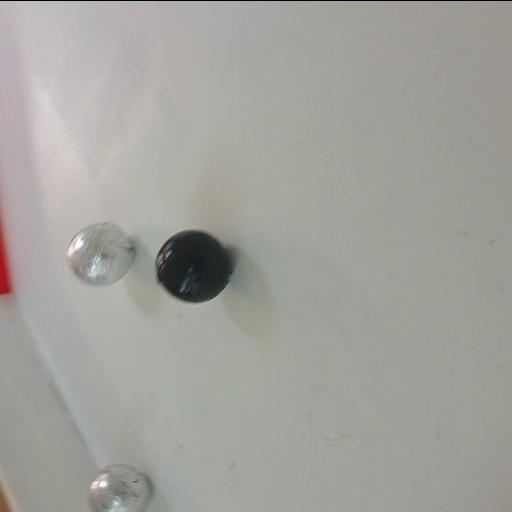alive: (65, 218, 137, 288), (86, 462, 152, 512)
dead: (151, 226, 234, 306)
